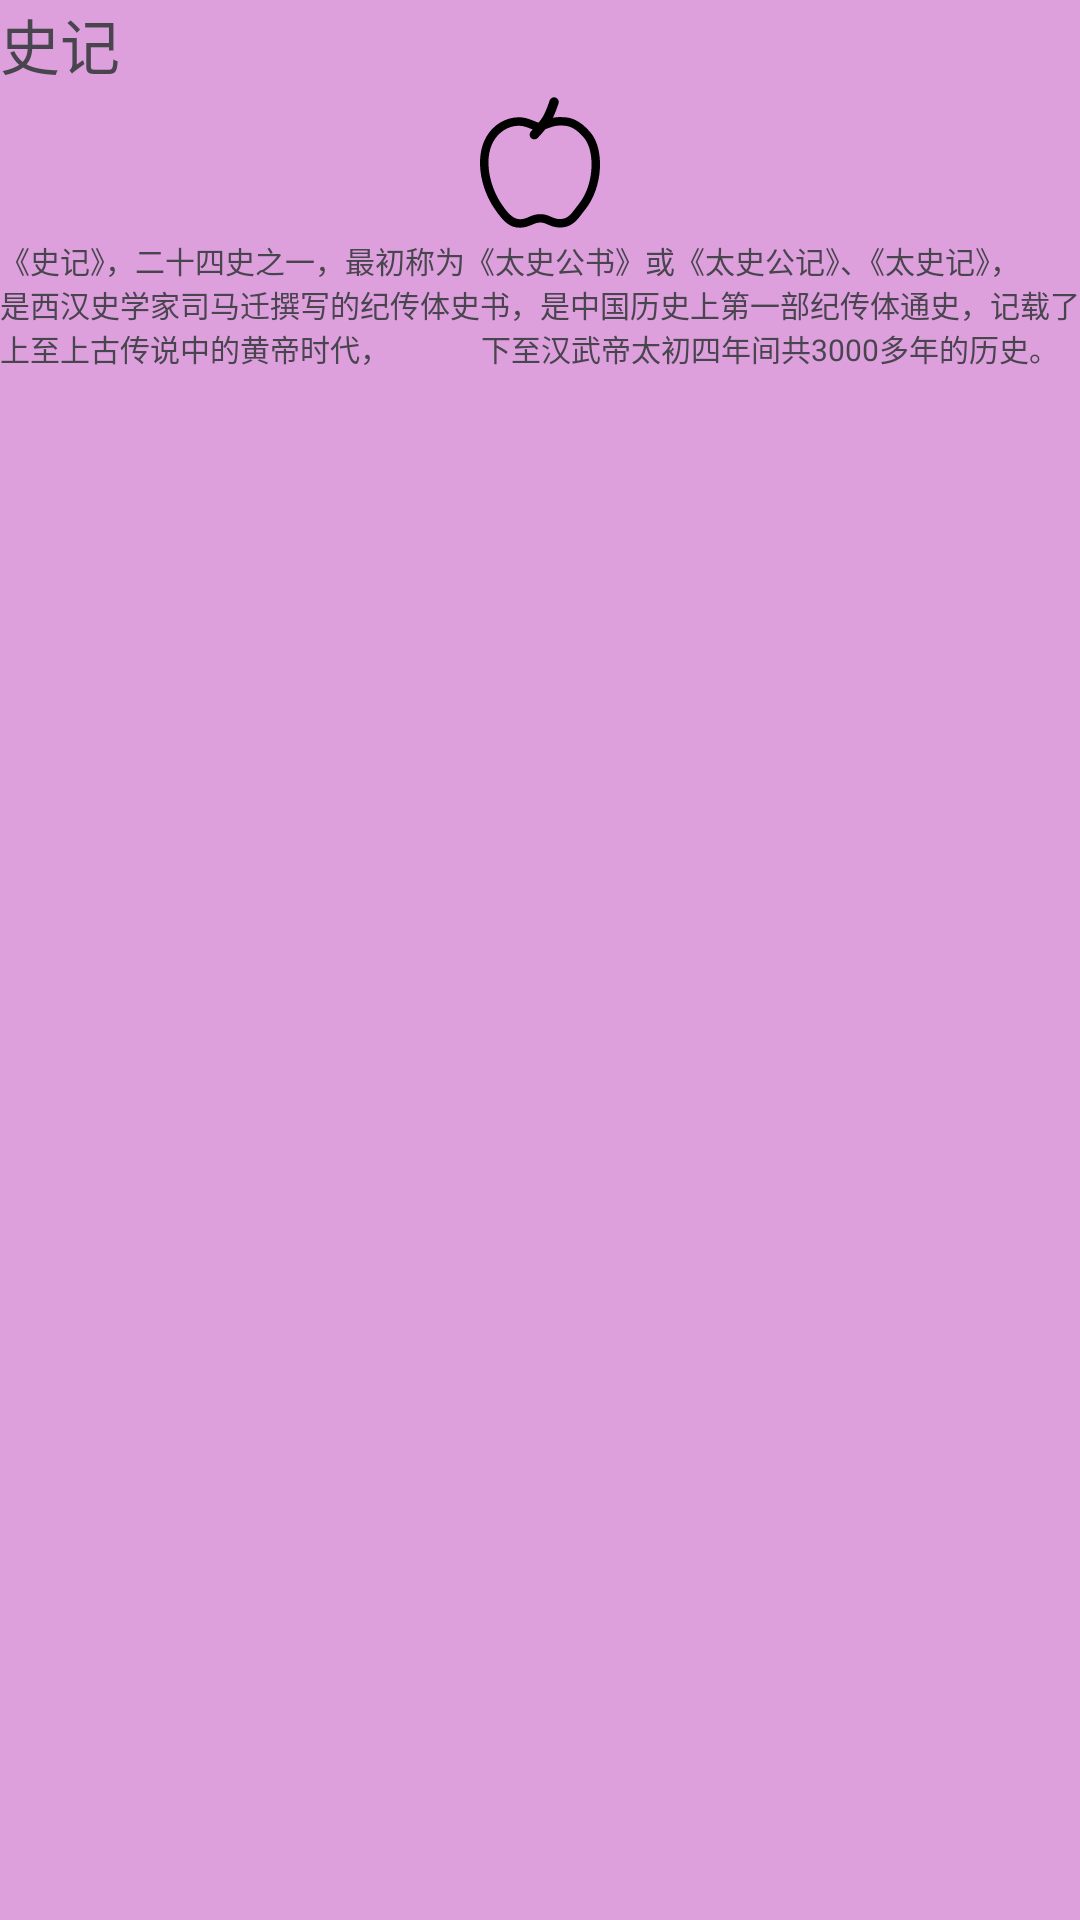

Locate icon controls on the screen. Image size 1080 x 1920, boxes as (x1, y1, x2, y2).
food apple: (480, 97, 600, 228)
